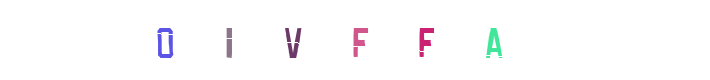0: (125, 0, 205, 80)
A: (453, 0, 533, 80)
F: (315, 0, 395, 80), (352, 0, 432, 80)
I: (228, 0, 308, 80)
V: (272, 0, 352, 80)
